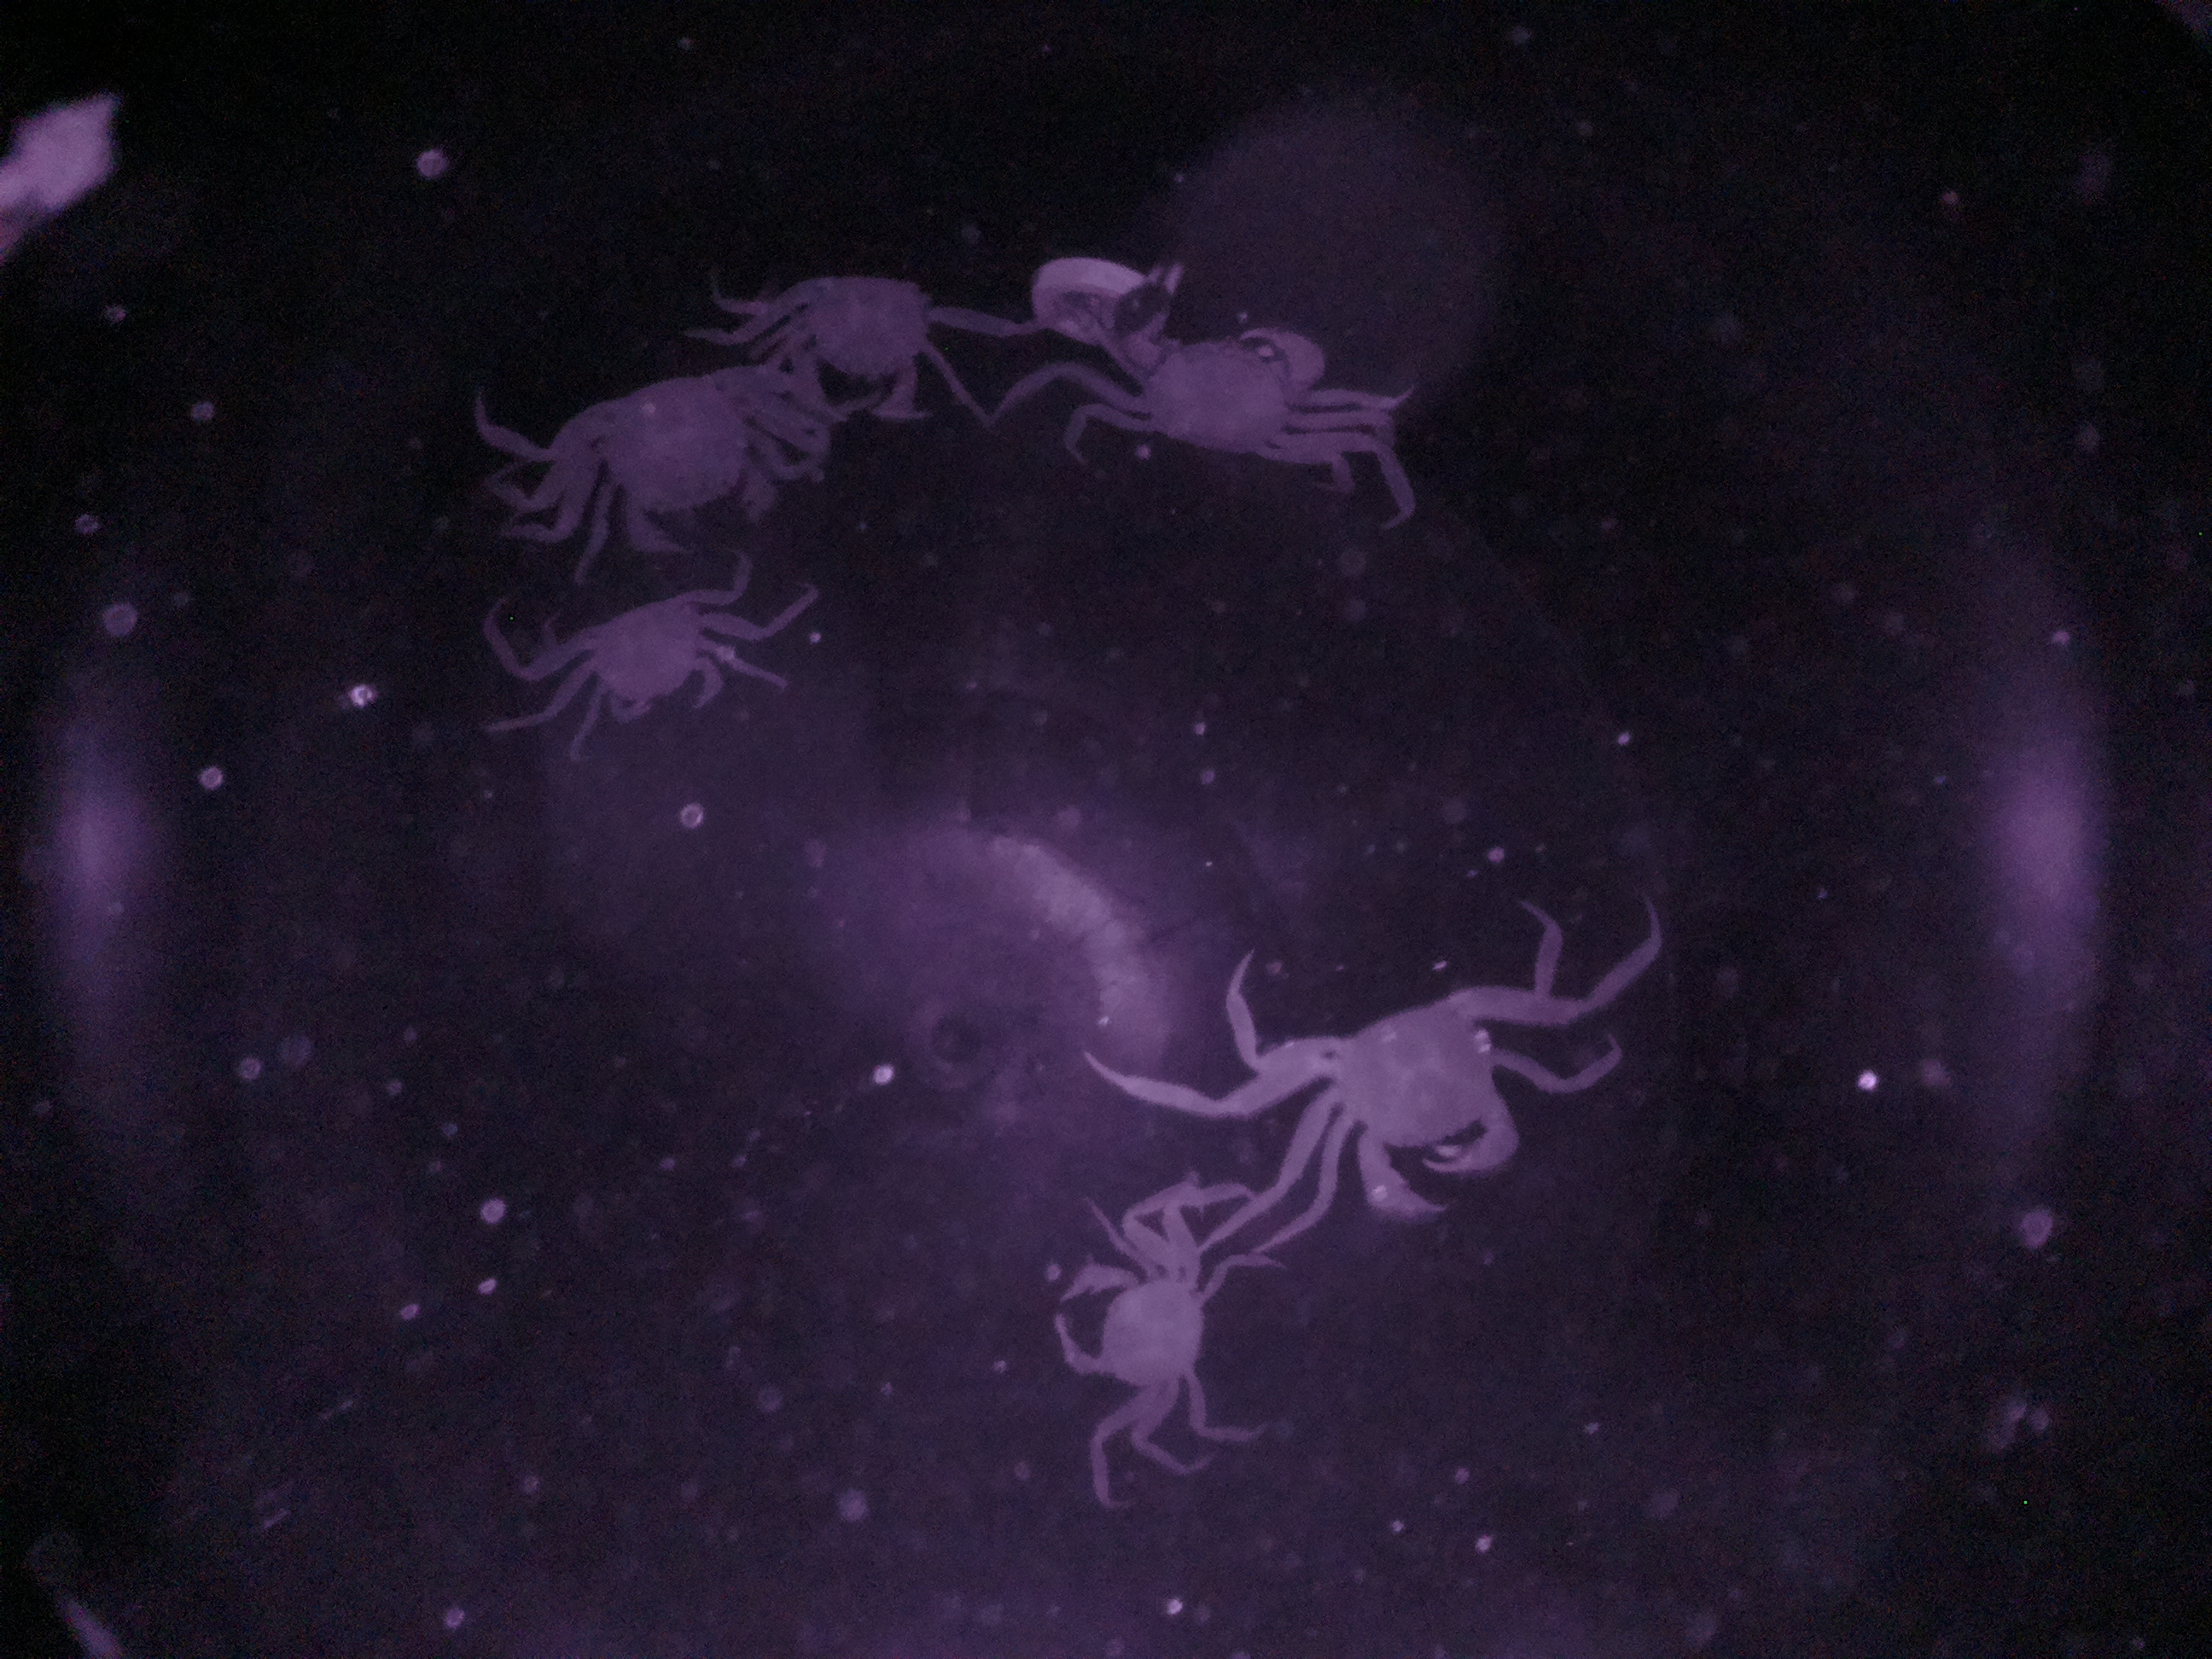Crab: (1242, 964, 1524, 1209), (528, 357, 827, 561), (1087, 296, 1341, 471), (749, 260, 975, 439), (1043, 1216, 1238, 1424), (526, 586, 752, 739)
